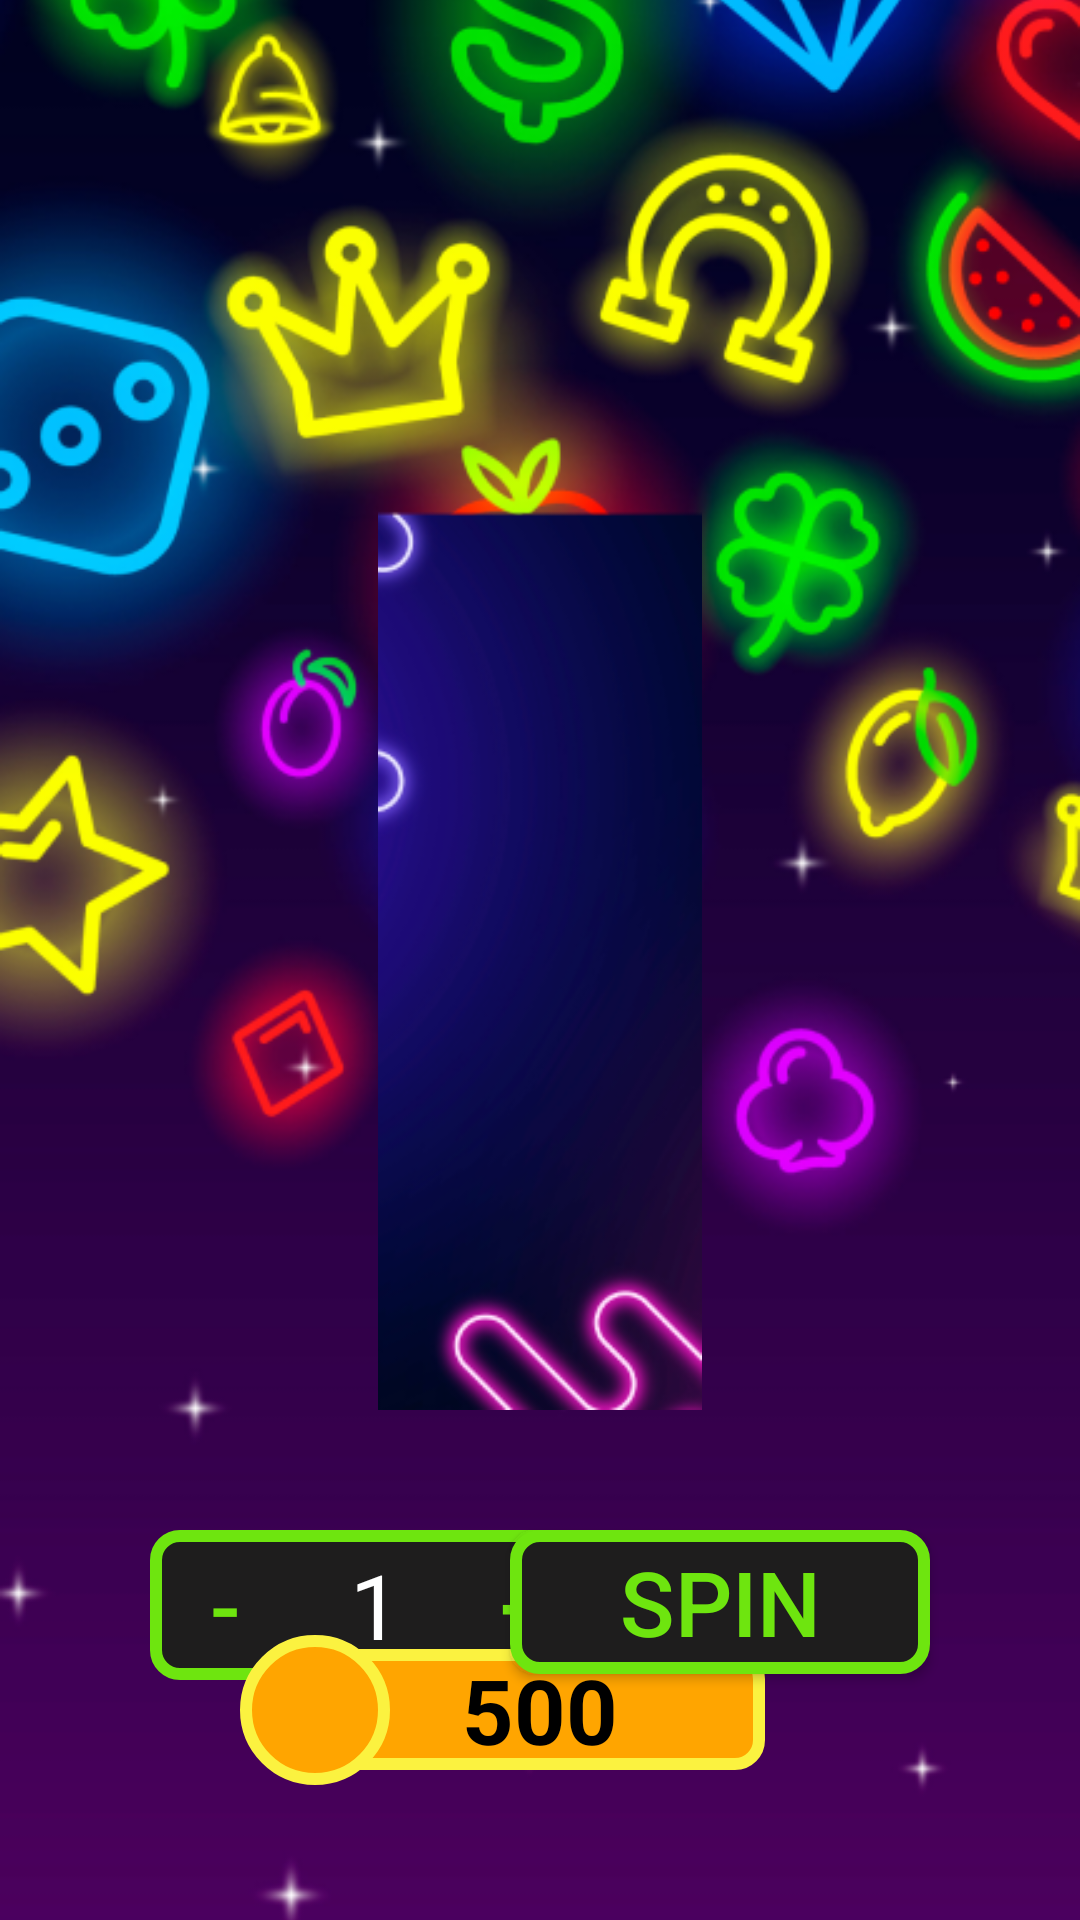

Screen size 1080 x 1920. Icon name, then its center in pixels as (x=x, y=y):
golden circle: (x=315, y=1710)
